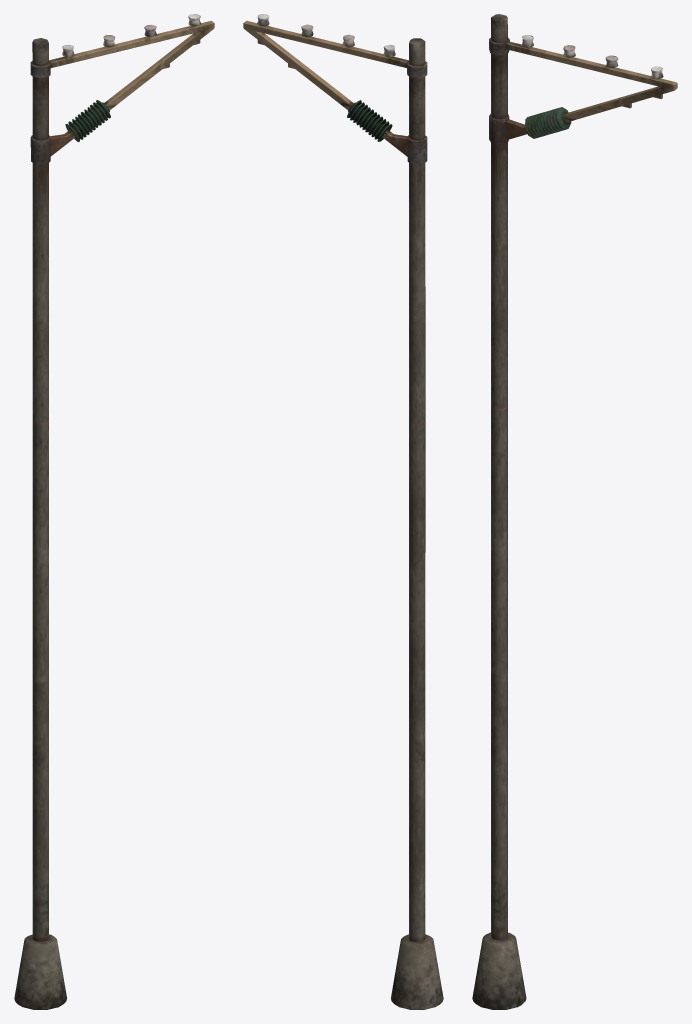
The model's file is pole.glb.
3 views of the same model, side by side, from view 1: azimuth 30°, elevation 25°; view 2: azimuth 150°, elevation 25°; view 3: azimuth 330°, elevation 25° (orthographic). The views are drawn at different scales.
Parts seen in each view (by area): view 1: Cylinder_Material_0; view 2: Cylinder_Material_0; view 3: Cylinder_Material_0.
Part boxes in pixels (x1,y1,x2,y2): Cylinder_Material_0: (14, 14, 214, 1009); Cylinder_Material_0: (243, 14, 443, 1009); Cylinder_Material_0: (472, 14, 677, 1009).
Bounding box in the file's own units: 1.05 × 4.91 × 0.2451.
1 material, 1 textured.
